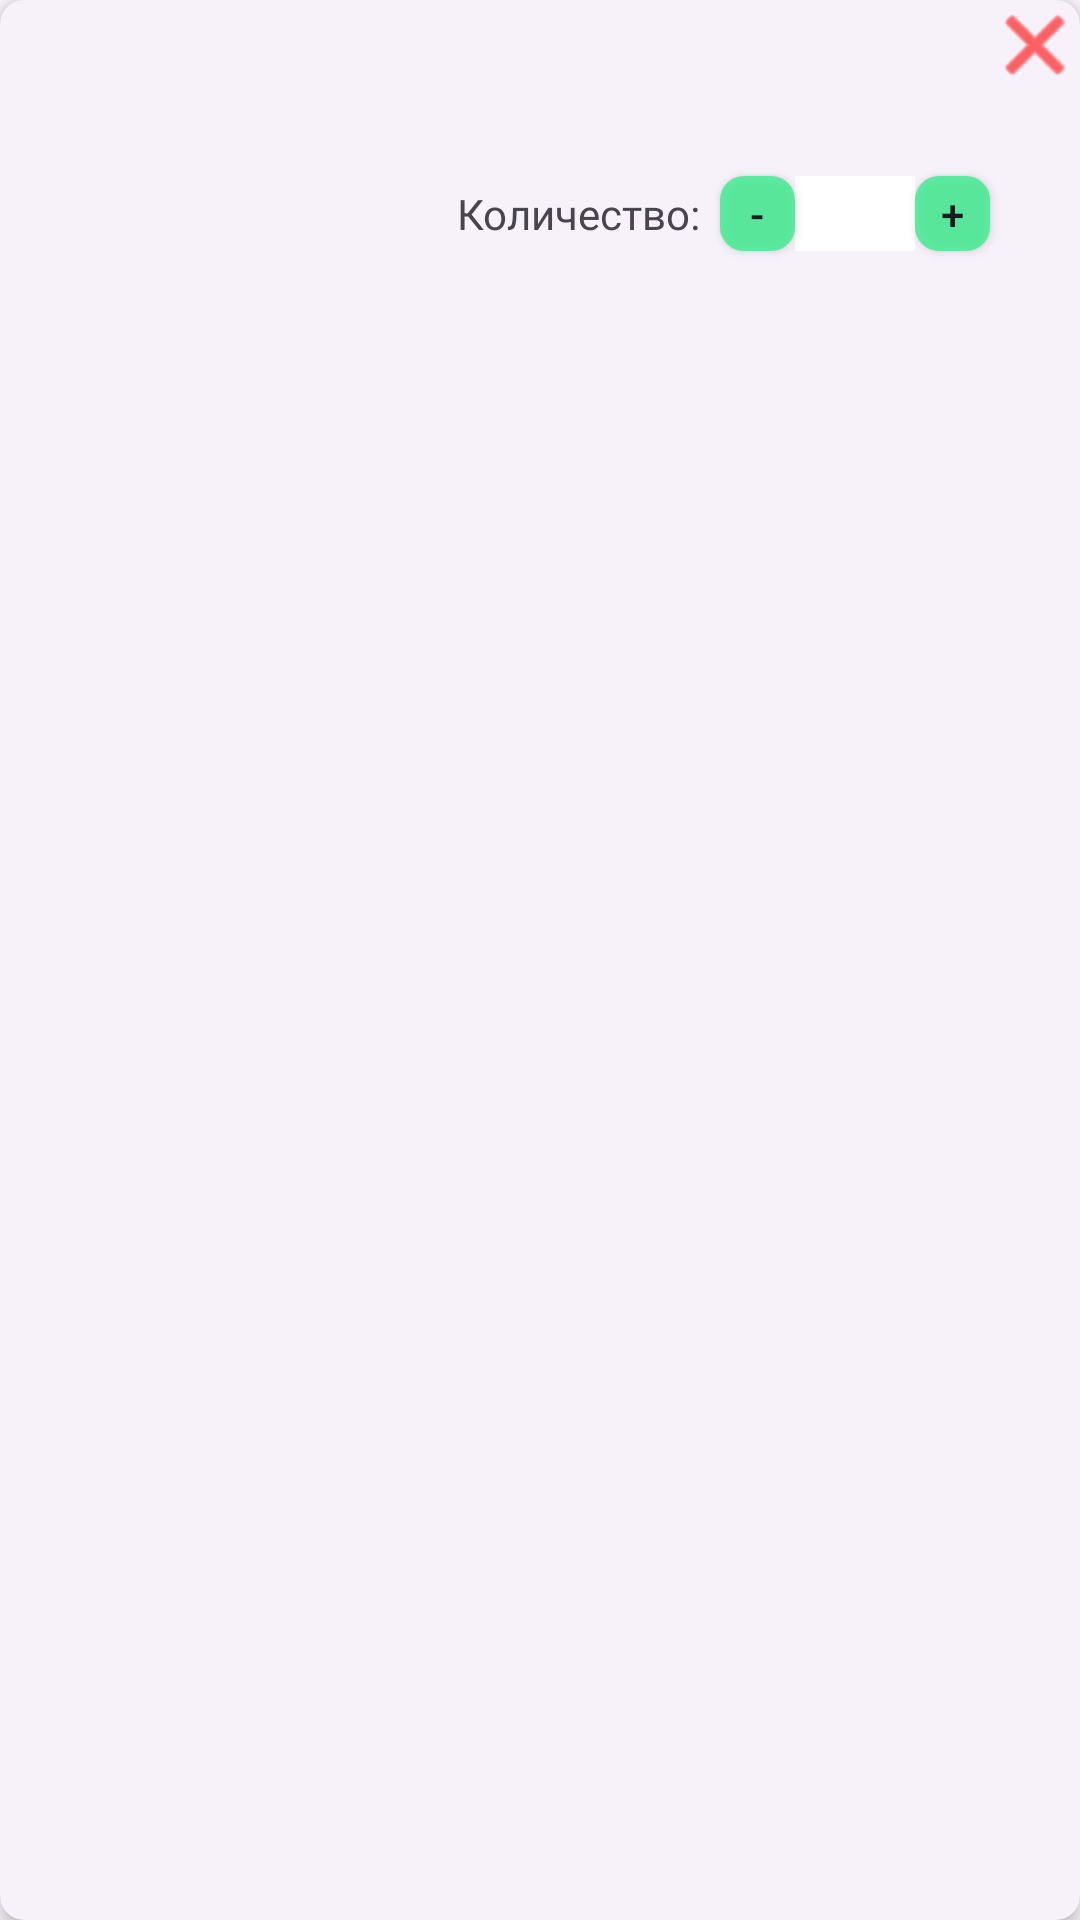

Screen size 1080w x 1920h. Icon name, then its center in pixels as [x,y]:
close clear cancel: [1042,42]
